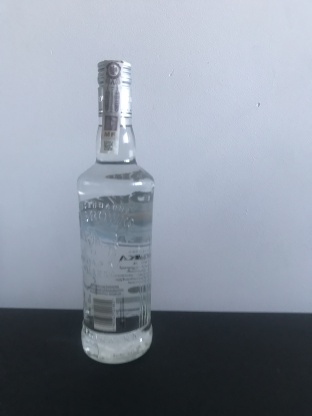nakretka: (94, 55, 135, 121)
